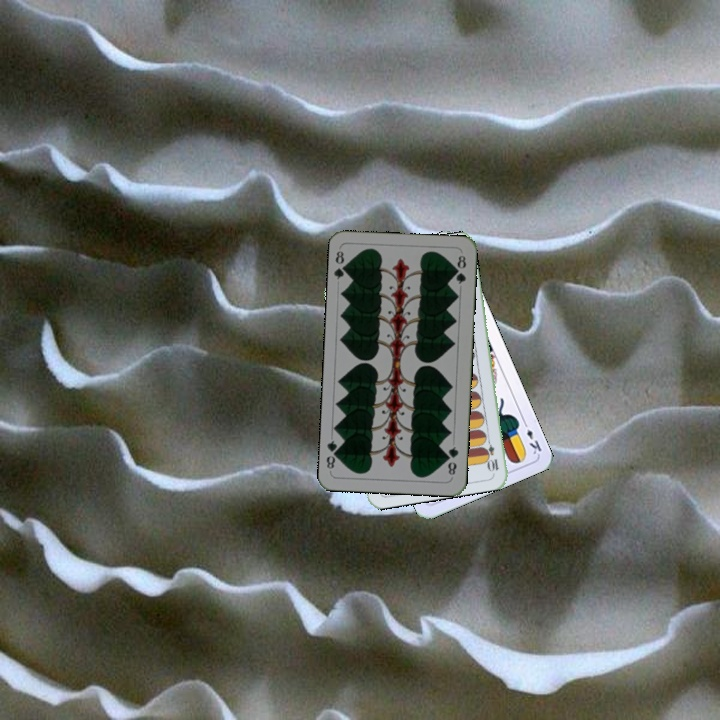E10: (482, 433, 501, 474)
EK: (519, 417, 544, 457)
G8: (331, 247, 351, 282), (443, 442, 461, 478)
